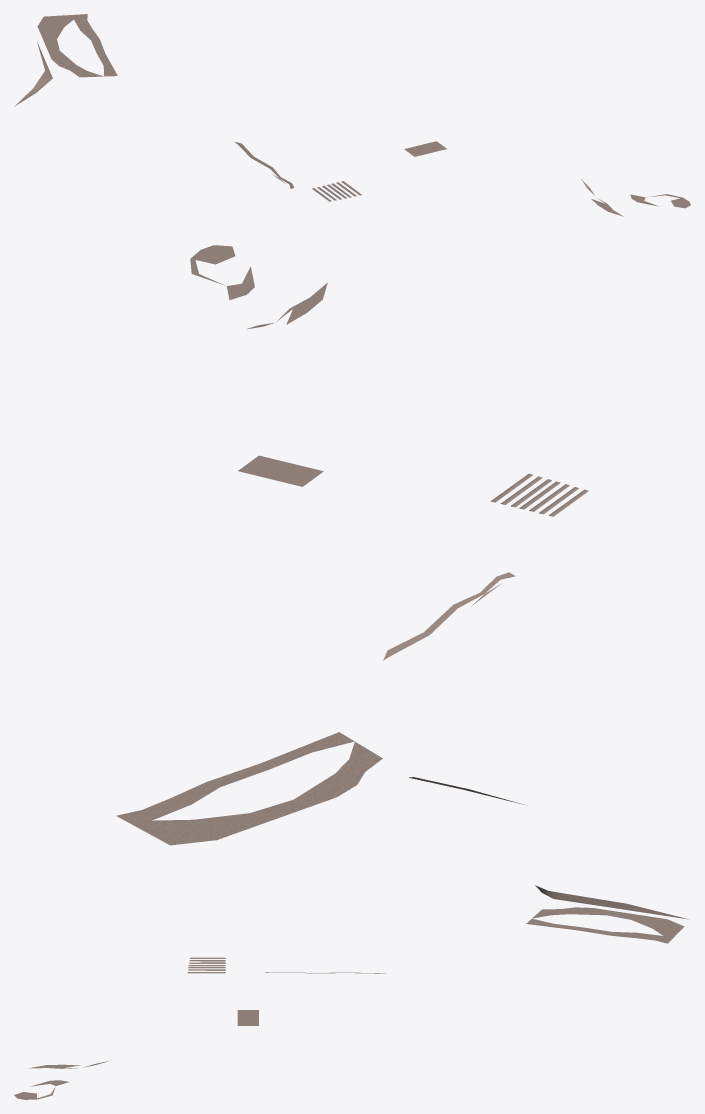
The model's file is kd_connection_world-inner_surface_19_4.glb.
The picture shows the model from 3 angles, top to bottom: view 1: azimuth 30°, elevation 25°; view 2: azimuth 150°, elevation 25°; view 3: azimuth 270°, elevation 25°; orthographic projection. The views are drawn at different scales.
Parts seen in each view (by area): view 1: kd_connection_world-inner_surface_19_4; view 2: kd_connection_world-inner_surface_19_4; view 3: kd_connection_world-inner_surface_19_4.
Part boxes in pixels (x1=…): kd_connection_world-inner_surface_19_4: x1=14, y1=14, x2=690, y2=216; kd_connection_world-inner_surface_19_4: x1=116, y1=245, x2=588, y2=845; kd_connection_world-inner_surface_19_4: x1=14, y1=885, x2=689, y2=1099.
Size of the model in its own units: 106 by 8.05 by 148.
Materials: 1 (1 with a texture image).
